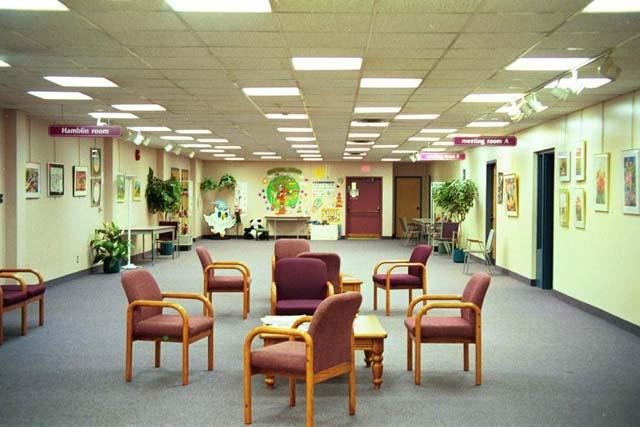Matera: (433, 174, 477, 244), (148, 177, 190, 242), (93, 228, 134, 275)
